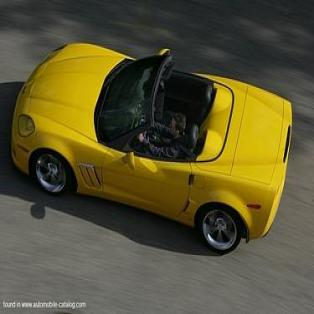Auto: (12, 41, 292, 254)
